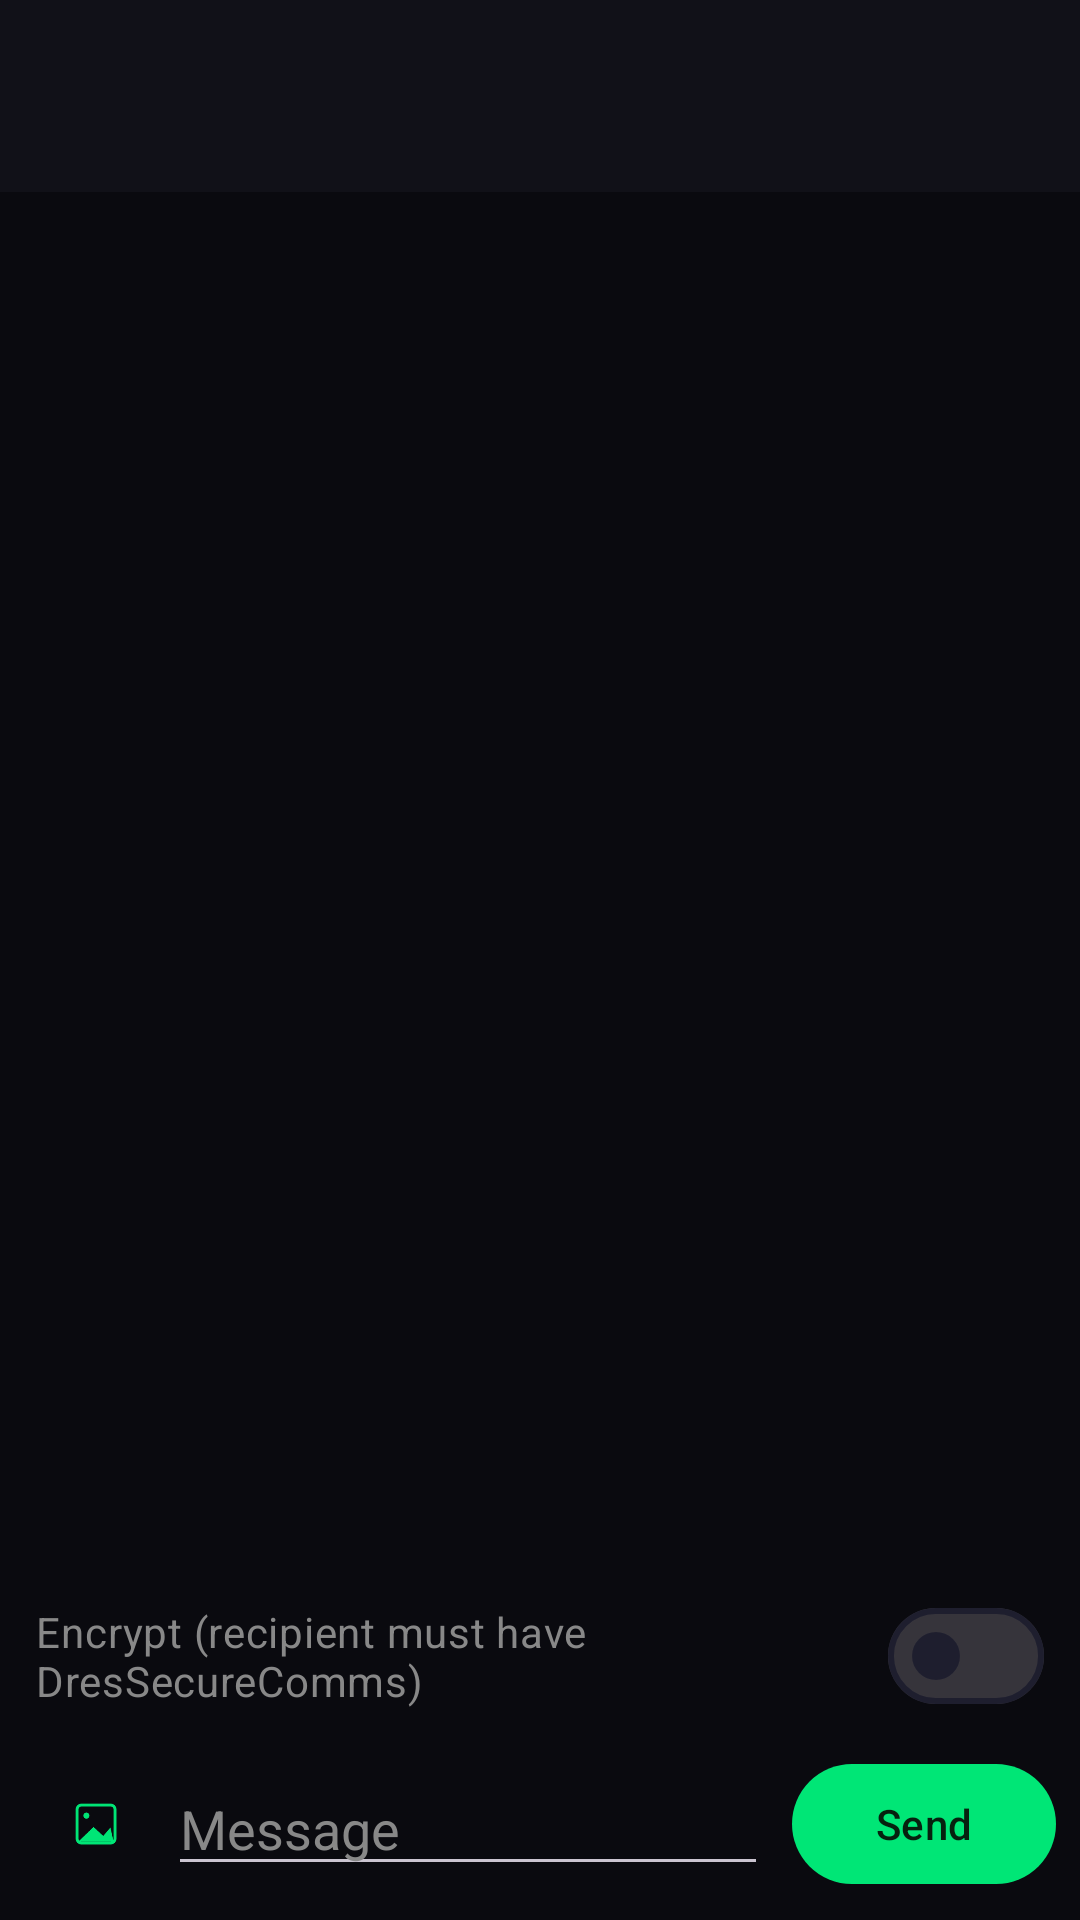

Where to tap for icons on this 1080x1920 app screen, as [x,y]:
Attach photo: [96,1824]
